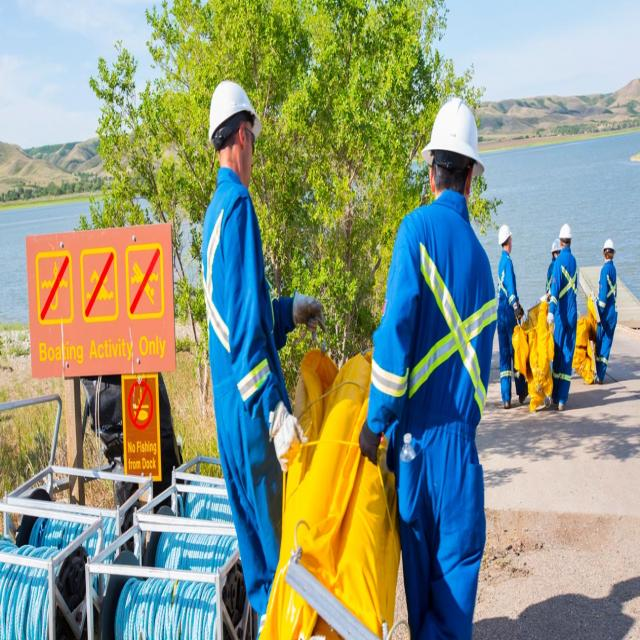Reflective-Jacket: (411, 201, 497, 422)
Safety-Helmet: (419, 91, 485, 170), (205, 74, 262, 144), (559, 220, 573, 239)
